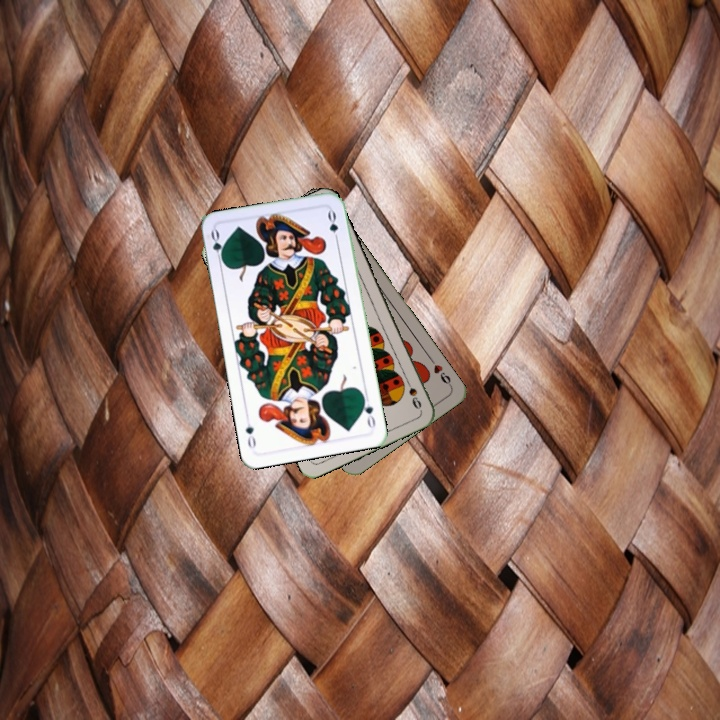GO: (207, 226, 227, 267), (358, 391, 378, 431)
H9: (426, 354, 454, 390)
S9: (401, 374, 424, 412)
